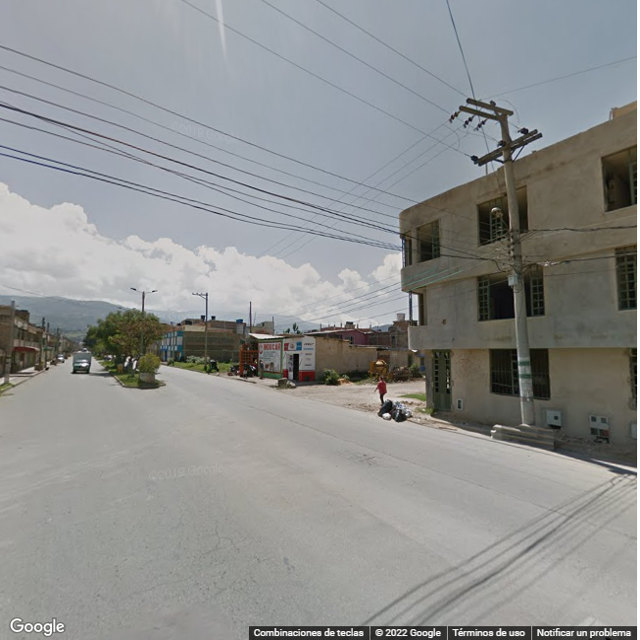D00: (212, 522, 239, 552), (186, 500, 198, 536)
D10: (121, 574, 191, 607)
